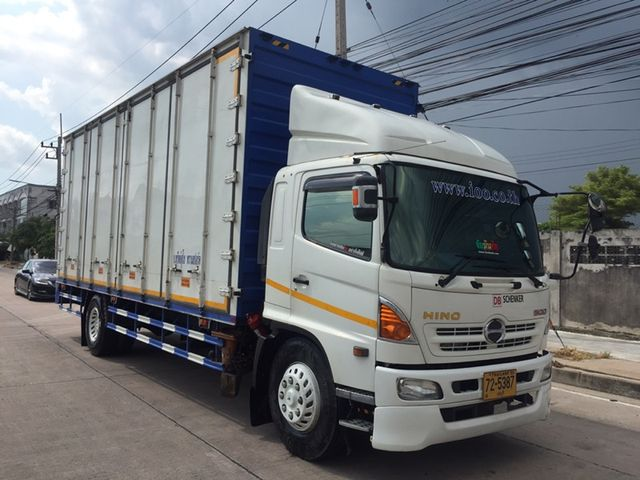truck: (51, 26, 552, 462)
